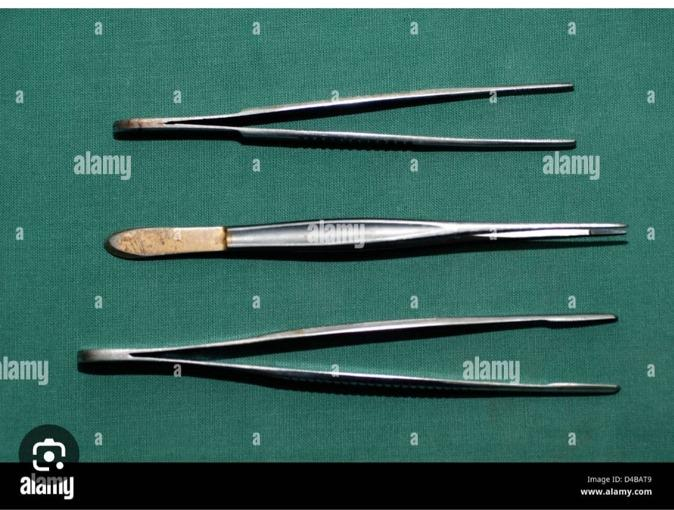Disscting Forceps: (72, 304, 638, 417), (101, 182, 639, 284), (108, 64, 592, 170)
